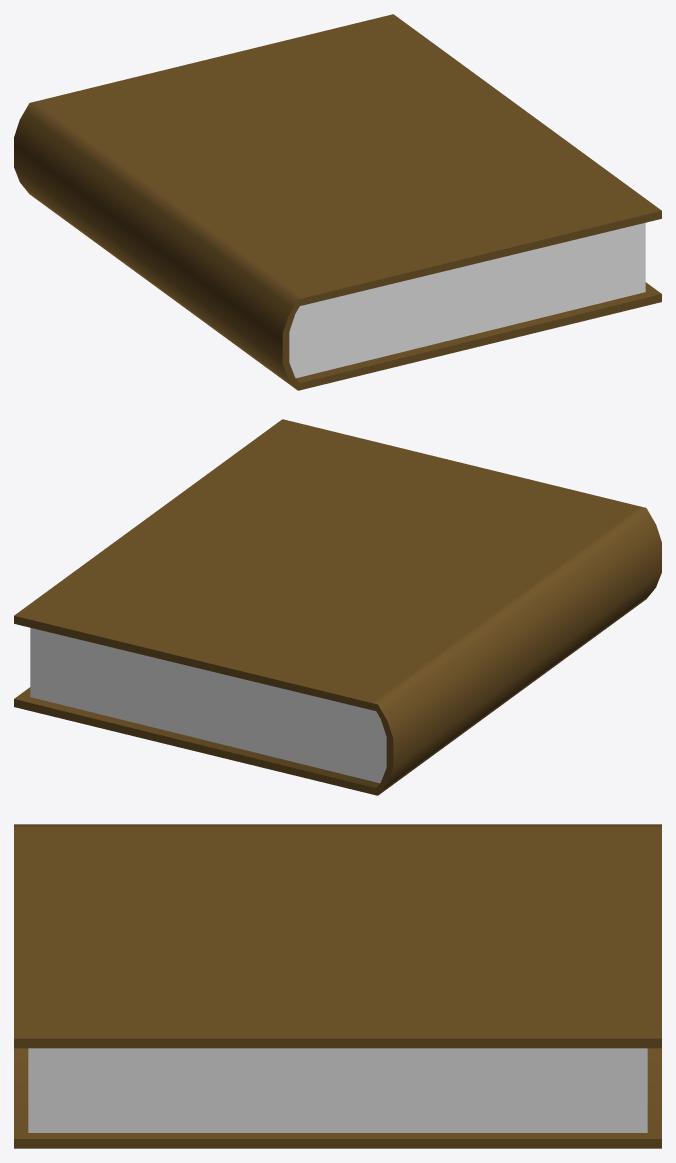
The model's file is singularbookfbxprefab.fbx.
3 renders of one model, top to bottom at view 1: azimuth 30°, elevation 25°; view 2: azimuth 150°, elevation 25°; view 3: azimuth 270°, elevation 25°, orthographic. The views are drawn at different scales.
Visible parts, largest first — view 1: singularbook1; view 2: singularbook1; view 3: singularbook1.
Boxes of the visible parts, x1,y1,x2,y2 form: singularbook1: (14, 14, 661, 390); singularbook1: (14, 419, 661, 795); singularbook1: (14, 824, 661, 1148).
Bounding box in the file's own units: 0.291 × 0.0669 × 0.3567.
